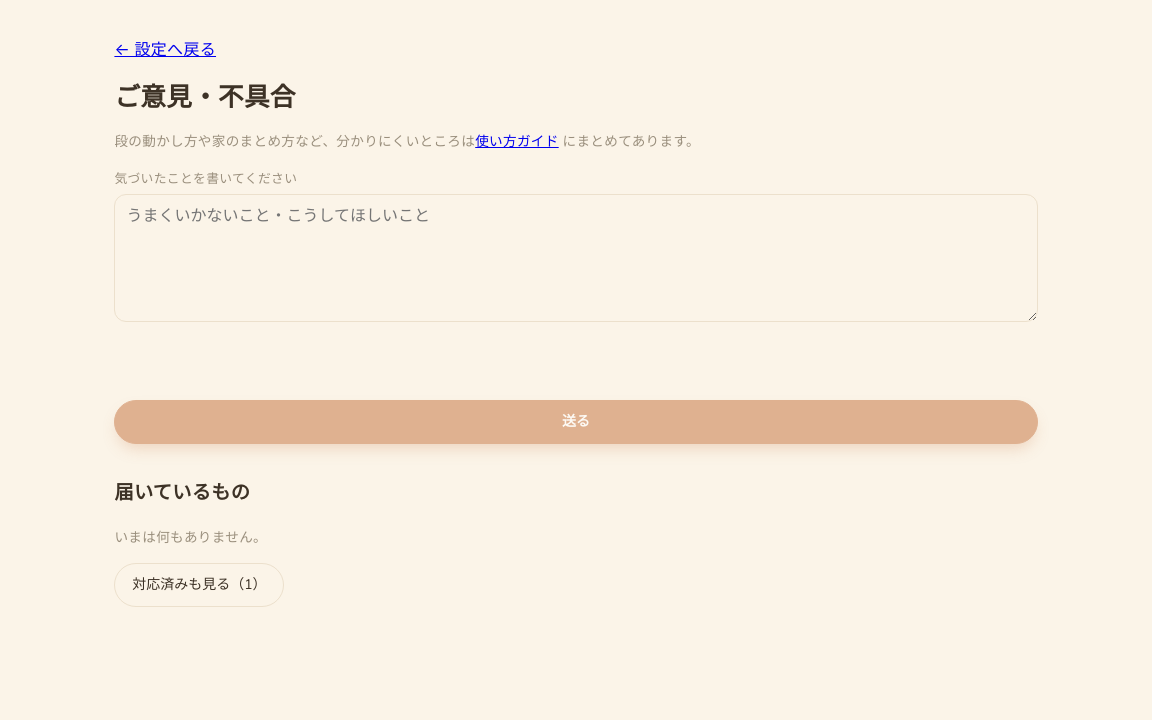
Scenario: FeedbackPage › 対応済みは畳んでおき、押すと開く
This screenshot has width=1152, height=720.
Expected: the text "直りました" is not shown
Click the button "対応済みも見る（1）" at coordinates (199, 585), box [114,563,284,607]
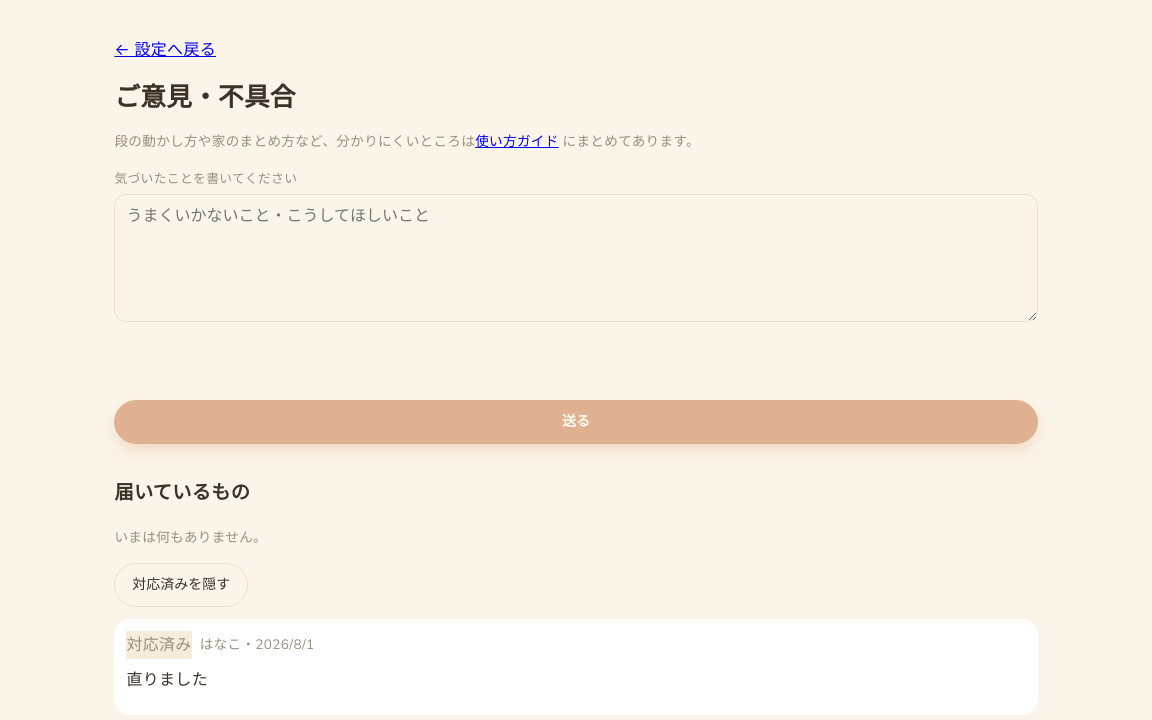
Expected: the text "直りました" is shown, [126,669,208,691]
